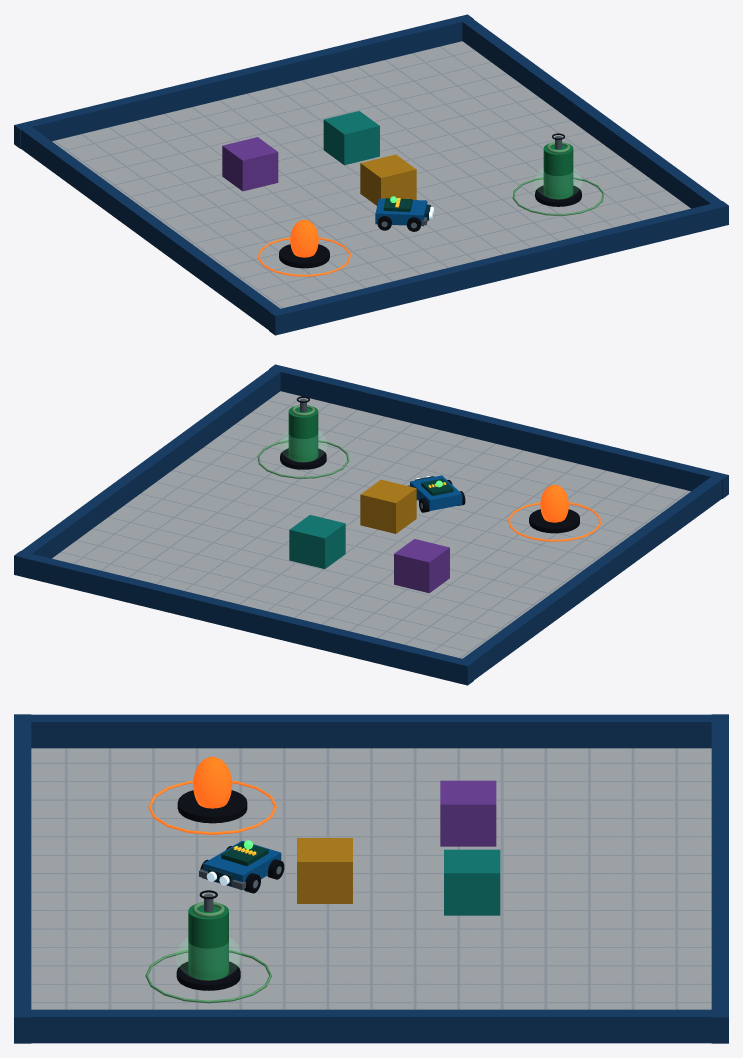
3 views of the same model, one above another, from view 1: azimuth 30°, elevation 25°; view 2: azimuth 150°, elevation 25°; view 3: azimuth 270°, elevation 25° (orthographic). The views are drawn at different scales.
Parts seen in each view (by area): view 1: arena-ground, arena-wall-north, arena-wall-south, arena-wall-east, arena-wall-west, obstacle-purple, obstacle-turquoise, obstacle-yellow, gas-tank, gas-cloud, outer-flame, fire-base (+2 smaller); view 2: arena-ground, arena-wall-south, arena-wall-north, arena-wall-east, arena-wall-west, obstacle-yellow, obstacle-turquoise, obstacle-purple, gas-tank, gas-cloud, outer-flame, robot-chassis (+2 smaller); view 3: arena-ground, arena-wall-west, arena-wall-east, arena-wall-south, arena-wall-north, obstacle-purple, obstacle-turquoise, obstacle-yellow, gas-tank, gas-cloud, outer-flame, fire-base (+5 smaller).
Part boxes in pixels (x1,y1,x2,y2): arena-ground: (52,41,690,308); arena-wall-north: (269,201,728,335); arena-wall-south: (14,14,473,148); arena-wall-east: (19,125,283,329); arena-wall-west: (460,17,723,208); obstacle-purple: (222,137,278,191); obstacle-turquoise: (323,111,379,165); obstacle-yellow: (360,154,416,205); gas-tank: (543,143,573,199); gas-cloud: (535,169,581,198); outer-flame: (290,219,318,257); fire-base: (279,244,329,268); arena-ground: (52,391,690,658); arena-wall-south: (14,551,473,685); arena-wall-north: (269,364,728,498); arena-wall-east: (459,474,724,679); arena-wall-west: (19,367,282,558); obstacle-yellow: (360,479,416,533); obstacle-turquoise: (289,515,345,568); obstacle-purple: (394,539,449,593); gas-tank: (288,406,318,461); gas-cloud: (280,432,326,461); outer-flame: (540,484,568,522); robot-chassis: (410,475,462,510); arena-ground: (31,748,711,1009); arena-wall-west: (22,1009,720,1043); arena-wall-east: (27,714,712,748); arena-wall-south: (711,714,728,1043); arena-wall-north: (14,714,31,1043); obstacle-purple: (440,780,496,846); obstacle-turquoise: (444,849,500,915); obstacle-yellow: (297,838,352,903); gas-tank: (188,904,228,980); gas-cloud: (176,938,240,980); outer-flame: (193,756,232,808); fire-base: (177,790,247,823).
Bounding box in the file's own units: 18.5 × 2.46 × 18.45.
21 materials, 1 textured.
